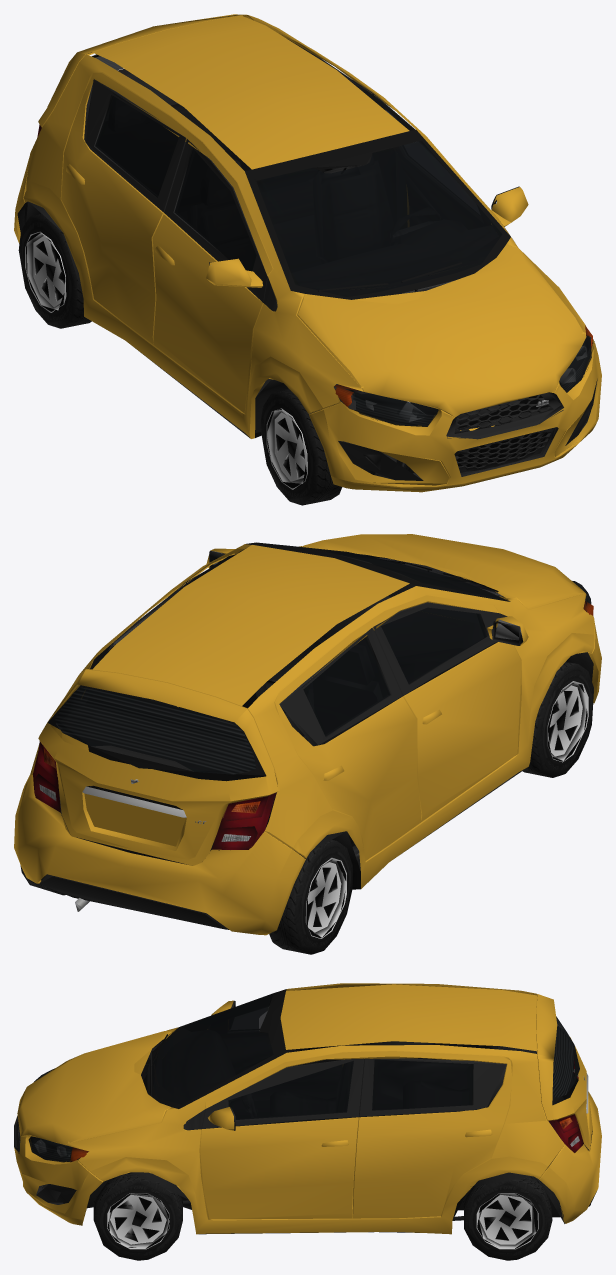
File: hatch.glb
3 renders of one model, top to bottom at view 1: azimuth 30°, elevation 25°; view 2: azimuth 150°, elevation 25°; view 3: azimuth 270°, elevation 25°, orthographic. The views are drawn at different scales.
Visible parts, largest first — view 1: Ace11_Body_Ace11_Bodymat_0, Ace11_Glass_Body_UCB_Lights_and_Glass_Transperent_0, Ace11_Interior_UCB_Interiors_2_0, Ace11_Bottom_UCB_BOTTOM_LT_0, Ace11_WheelStock_FL_RB1c_Tire_1k_0; view 2: Ace11_Body_Ace11_Bodymat_0, Ace11_Interior_UCB_Interiors_2_0, Ace11_Glass_Body_UCB_Lights_and_Glass_Transperent_0, Ace11_Bottom_UCB_BOTTOM_LT_0, Ace11_WheelStock_FL_RB1c_Tire_1k_0, Ace11_Brakelights_UCB_Lights_and_Glass_0; view 3: Ace11_Body_Ace11_Bodymat_0, Ace11_Glass_Body_UCB_Lights_and_Glass_Transperent_0, Ace11_Interior_UCB_Interiors_2_0, Ace11_Bottom_UCB_BOTTOM_LT_0, Ace11_WheelStock_FL_RB1c_Tire_1k_0, Ace11_Brakelights_UCB_Lights_and_Glass_0.
Part boxes in pixels (bbox=[...]): Ace11_Body_Ace11_Bodymat_0: bbox=[14, 14, 601, 492]; Ace11_Glass_Body_UCB_Lights_and_Glass_Transperent_0: bbox=[92, 54, 591, 426]; Ace11_Interior_UCB_Interiors_2_0: bbox=[84, 69, 501, 396]; Ace11_Bottom_UCB_BOTTOM_LT_0: bbox=[17, 38, 597, 480]; Ace11_WheelStock_FL_RB1c_Tire_1k_0: bbox=[18, 213, 342, 505]; Ace11_Body_Ace11_Bodymat_0: bbox=[14, 534, 601, 935]; Ace11_Interior_UCB_Interiors_2_0: bbox=[56, 548, 497, 850]; Ace11_Glass_Body_UCB_Lights_and_Glass_Transperent_0: bbox=[55, 542, 591, 774]; Ace11_Bottom_UCB_BOTTOM_LT_0: bbox=[23, 542, 593, 933]; Ace11_WheelStock_FL_RB1c_Tire_1k_0: bbox=[20, 662, 593, 954]; Ace11_Brakelights_UCB_Lights_and_Glass_0: bbox=[33, 601, 593, 849]; Ace11_Body_Ace11_Bodymat_0: bbox=[14, 983, 601, 1234]; Ace11_Glass_Body_UCB_Lights_and_Glass_Transperent_0: bbox=[28, 993, 574, 1162]; Ace11_Interior_UCB_Interiors_2_0: bbox=[153, 994, 574, 1210]; Ace11_Bottom_UCB_BOTTOM_LT_0: bbox=[14, 989, 596, 1234]; Ace11_WheelStock_FL_RB1c_Tire_1k_0: bbox=[93, 1172, 552, 1260]; Ace11_Brakelights_UCB_Lights_and_Glass_0: bbox=[70, 1061, 583, 1161].
Size of the model in its own units: 2.18 by 1.73 by 4.58.
7 materials, 6 textured.
